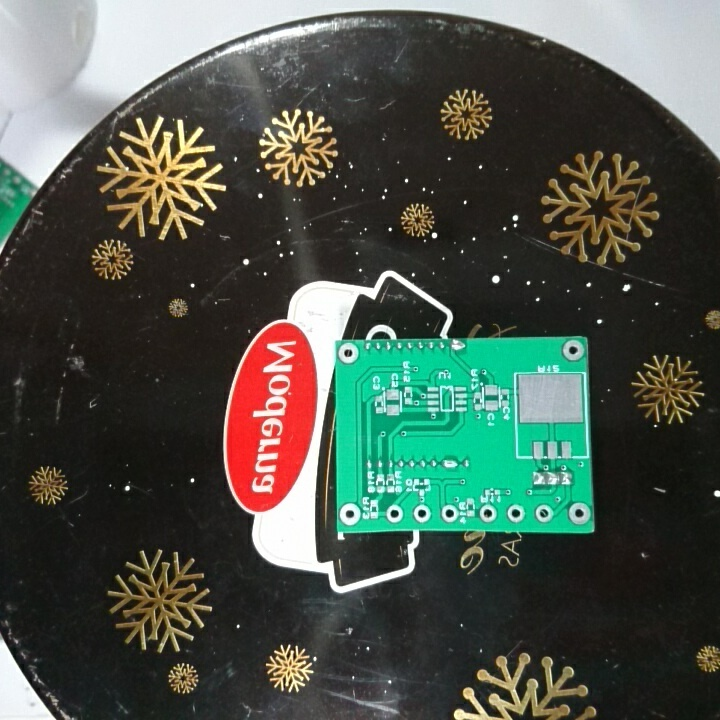F: (564, 499, 592, 526), (560, 338, 586, 364), (338, 501, 364, 526), (336, 340, 360, 366), (532, 500, 555, 525), (411, 501, 434, 525), (477, 503, 500, 525), (439, 503, 461, 525), (505, 503, 528, 523), (384, 502, 405, 523)
P: (447, 338, 470, 354), (440, 455, 460, 473)
